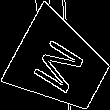M_SE: (29, 32, 91, 97)
